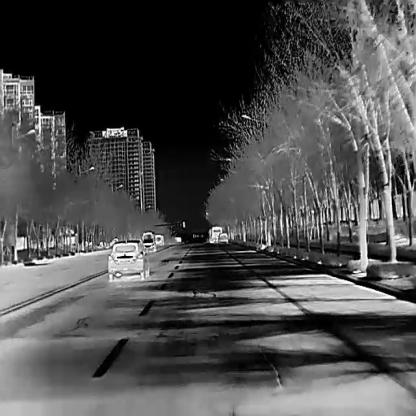bus: (208, 225, 222, 241), (142, 230, 154, 244)
car: (107, 238, 148, 280), (140, 238, 155, 250), (154, 232, 165, 244), (218, 231, 227, 242)
